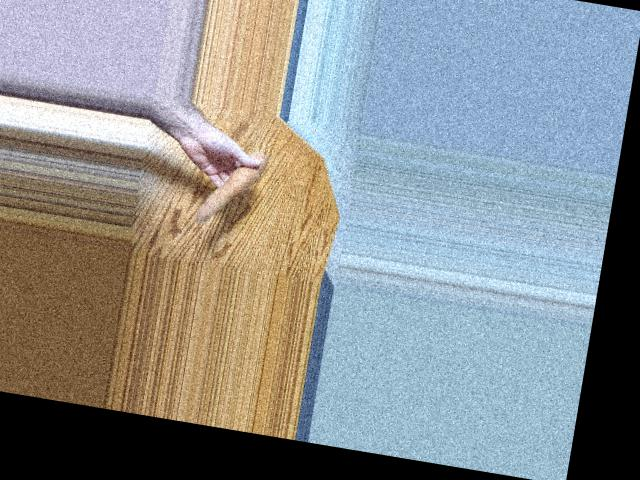sweet_potato: (192, 143, 265, 230)
